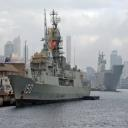Fragata: (9, 10, 94, 109)
